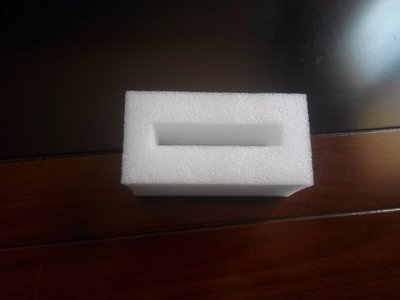5/可回收垃圾/泡沫: (120, 89, 314, 199)
